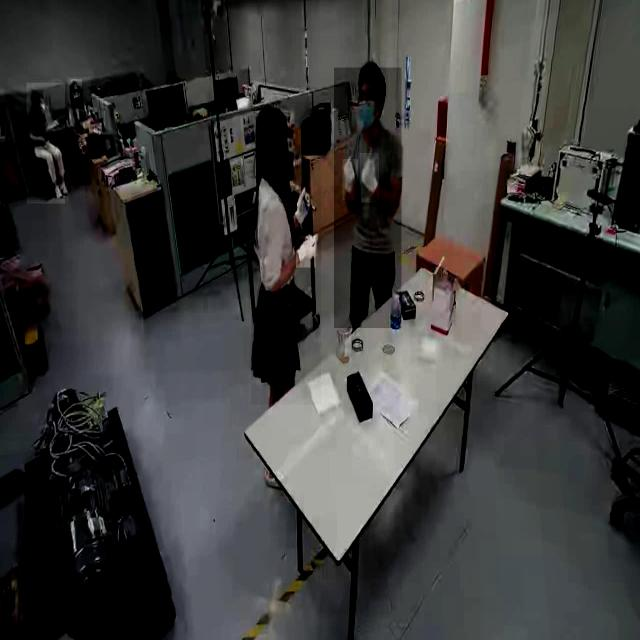face_mask: (354, 89, 382, 132), (71, 89, 83, 108)
hand_glove: (292, 182, 313, 230), (360, 153, 379, 203), (296, 235, 316, 268), (342, 159, 358, 200)
head_nohelmet: (256, 106, 288, 129), (358, 60, 386, 81), (31, 90, 43, 100), (70, 79, 82, 87)
person: (251, 102, 321, 406), (334, 67, 402, 329), (26, 82, 65, 204), (67, 78, 91, 132)
